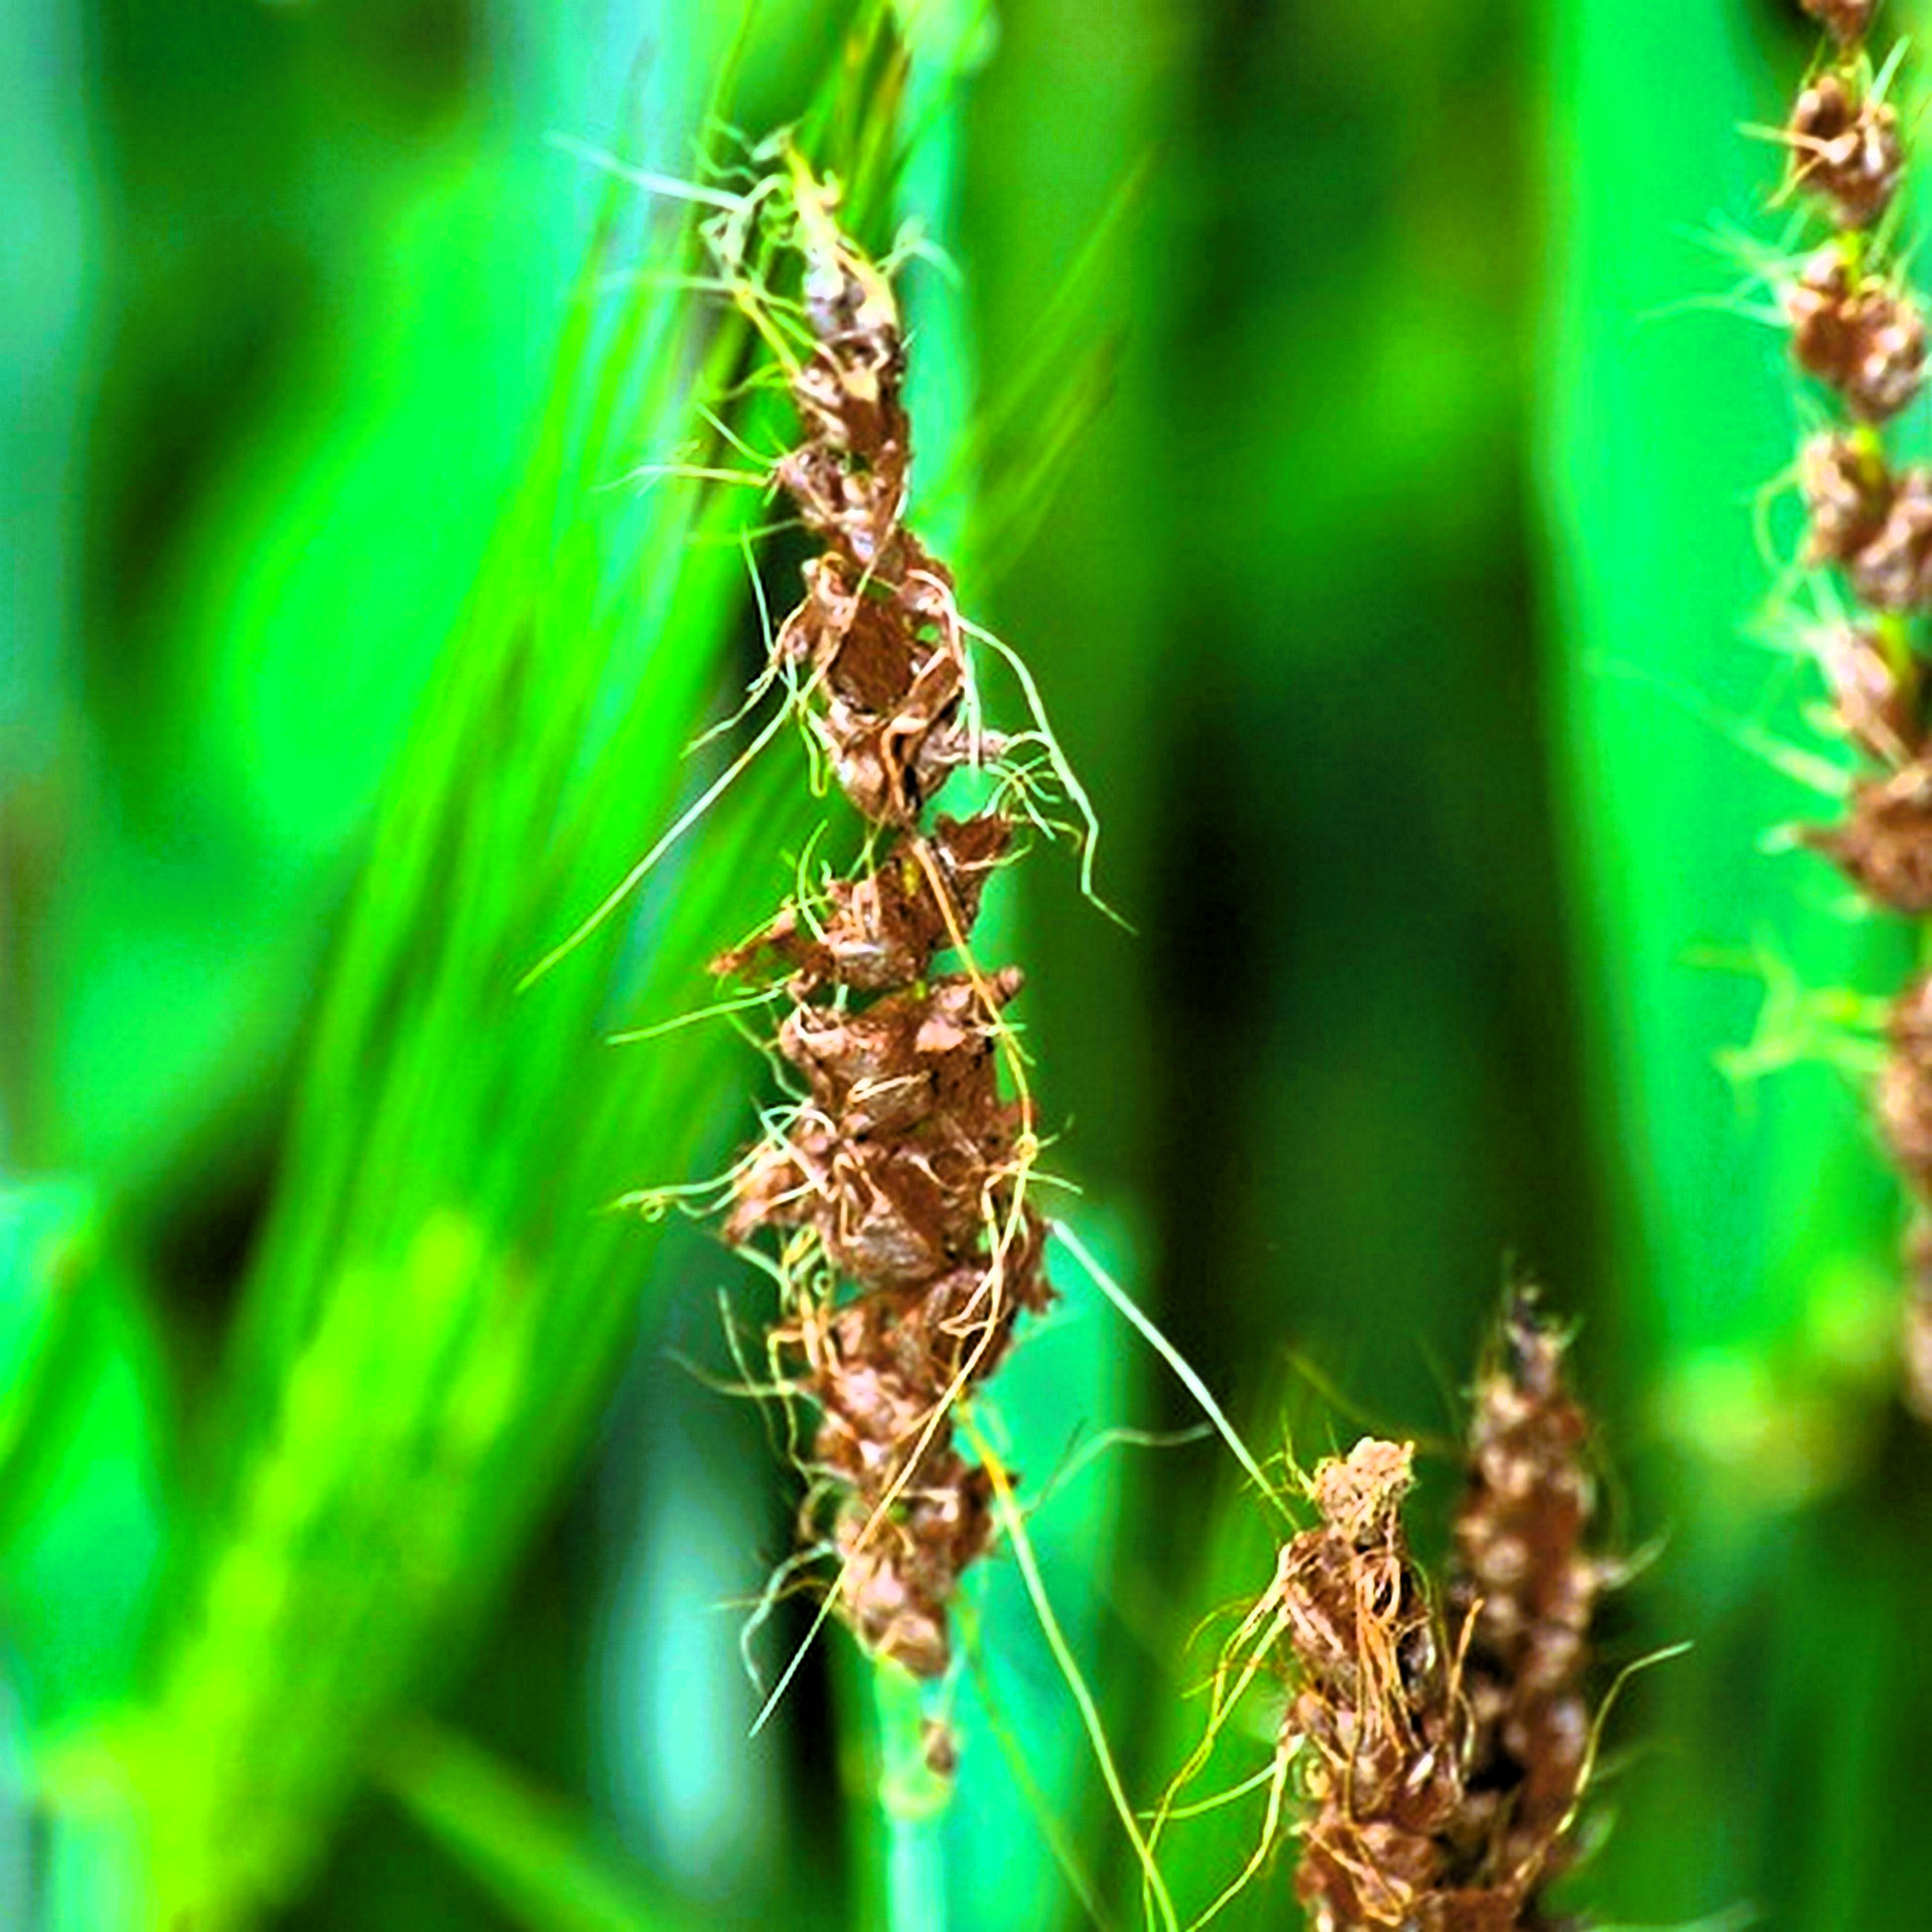Wheat Loose Smut: (630, 244, 1093, 1617)
